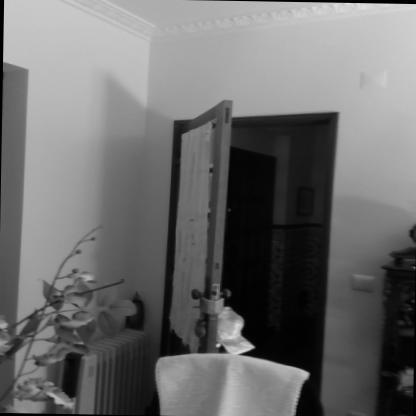semi: (159, 89, 370, 416)
